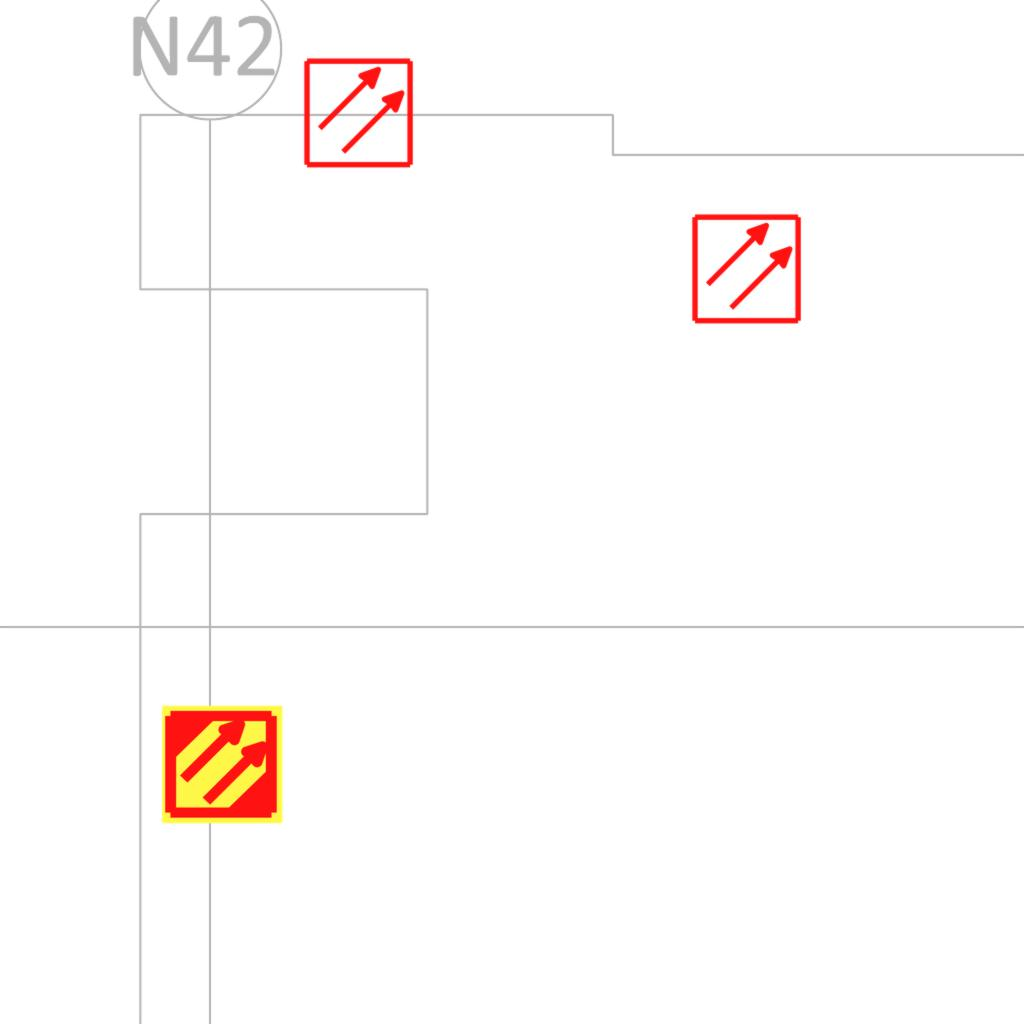ASR_Ansaugrauchmelder: (160, 702, 285, 827)
RMO_Rauchmelder_optischer: (690, 212, 803, 325), (302, 56, 415, 169)
